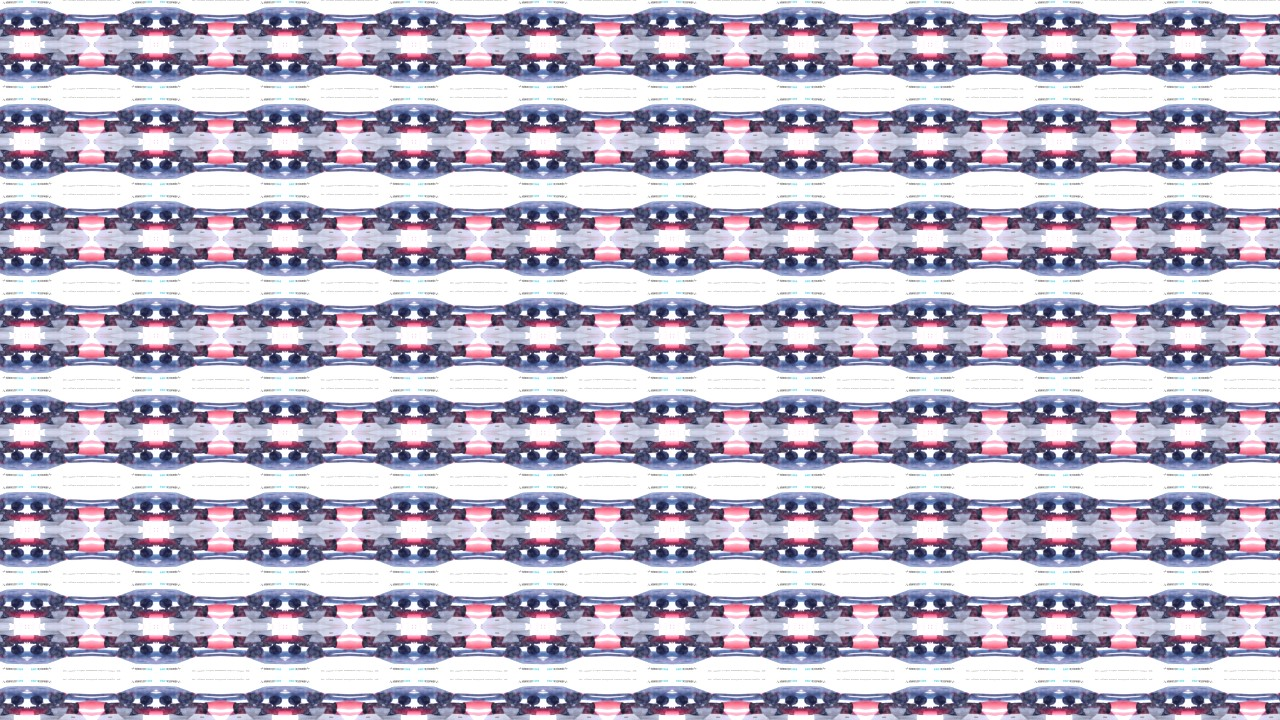chock: (46, 109, 53, 113), (126, 109, 133, 113), (305, 109, 312, 113), (385, 109, 392, 113), (564, 109, 571, 113), (644, 109, 651, 113), (823, 109, 830, 113), (903, 109, 910, 113), (1082, 109, 1089, 113), (1162, 109, 1169, 113), (46, 168, 53, 172), (126, 168, 133, 172), (305, 168, 312, 172), (385, 168, 392, 172), (564, 168, 571, 172), (644, 168, 651, 172), (823, 168, 830, 172), (903, 168, 910, 172), (1082, 168, 1089, 172), (1162, 168, 1169, 172), (46, 304, 53, 308), (126, 304, 133, 308), (305, 304, 312, 308), (385, 304, 392, 308), (564, 304, 571, 308), (644, 304, 651, 308), (823, 304, 830, 308), (903, 304, 910, 308), (1082, 304, 1089, 308), (1162, 304, 1169, 308), (46, 363, 53, 367), (126, 363, 133, 367), (305, 363, 312, 367), (385, 363, 392, 367), (564, 363, 571, 367), (644, 363, 651, 367), (823, 363, 830, 367), (903, 363, 910, 367), (1082, 363, 1089, 367), (1162, 363, 1169, 367), (46, 499, 53, 503), (126, 499, 133, 503), (305, 499, 312, 503), (385, 499, 392, 503), (564, 499, 571, 503), (644, 499, 651, 503), (823, 499, 830, 503), (903, 499, 910, 503), (1082, 499, 1089, 503), (1162, 499, 1169, 503), (46, 558, 53, 562), (126, 558, 133, 562), (305, 558, 312, 562), (385, 558, 392, 562), (564, 558, 571, 562), (644, 558, 651, 562), (823, 558, 830, 562), (903, 558, 910, 562), (1082, 558, 1089, 562), (1162, 558, 1169, 562), (46, 694, 53, 698), (126, 694, 133, 698), (305, 694, 312, 698), (385, 694, 392, 698), (564, 694, 571, 698), (644, 694, 651, 698), (823, 694, 830, 698), (903, 694, 910, 698), (1082, 694, 1089, 698), (1162, 694, 1169, 698), (176, 109, 182, 113), (256, 109, 262, 113), (435, 109, 441, 113), (515, 109, 521, 113), (694, 109, 700, 113), (774, 109, 780, 113), (953, 109, 959, 113), (1033, 109, 1039, 113), (1212, 109, 1218, 113), (176, 168, 182, 172), (256, 168, 262, 172), (435, 168, 441, 172), (515, 168, 521, 172), (694, 168, 700, 172), (774, 168, 780, 172), (953, 168, 959, 172), (1033, 168, 1039, 172), (1212, 168, 1218, 172), (176, 304, 182, 308), (256, 304, 262, 308), (435, 304, 441, 308), (515, 304, 521, 308), (694, 304, 700, 308), (774, 304, 780, 308), (953, 304, 959, 308), (1033, 304, 1039, 308), (1212, 304, 1218, 308), (176, 363, 182, 367), (256, 363, 262, 367), (435, 363, 441, 367), (515, 363, 521, 367), (694, 363, 700, 367), (774, 363, 780, 367), (953, 363, 959, 367), (1033, 363, 1039, 367), (1212, 363, 1218, 367), (176, 499, 182, 503), (256, 499, 262, 503), (435, 499, 441, 503), (515, 499, 521, 503), (694, 499, 700, 503), (774, 499, 780, 503), (953, 499, 959, 503), (1033, 499, 1039, 503), (1212, 499, 1218, 503), (176, 558, 182, 562), (256, 558, 262, 562), (435, 558, 441, 562), (515, 558, 521, 562), (694, 558, 700, 562), (774, 558, 780, 562), (953, 558, 959, 562), (1033, 558, 1039, 562), (1212, 558, 1218, 562), (176, 694, 182, 698), (256, 694, 262, 698), (435, 694, 441, 698), (515, 694, 521, 698), (694, 694, 700, 698), (774, 694, 780, 698), (953, 694, 959, 698), (1033, 694, 1039, 698), (1212, 694, 1218, 698), (46, 12, 53, 15), (126, 12, 133, 15), (305, 12, 312, 15), (385, 12, 392, 15), (564, 12, 571, 15), (644, 12, 651, 15), (823, 12, 830, 15), (903, 12, 910, 15), (1082, 12, 1089, 15), (1162, 12, 1169, 15), (46, 71, 53, 74), (126, 71, 133, 74), (305, 71, 312, 74), (385, 71, 392, 74), (564, 71, 571, 74), (644, 71, 651, 74), (823, 71, 830, 74), (903, 71, 910, 74), (1082, 71, 1089, 74), (1162, 71, 1169, 74), (46, 207, 53, 210), (126, 207, 133, 210), (305, 207, 312, 210), (385, 207, 392, 210), (564, 207, 571, 210), (644, 207, 651, 210), (823, 207, 830, 210), (903, 207, 910, 210), (1082, 207, 1089, 210), (1162, 207, 1169, 210), (46, 266, 53, 269), (126, 266, 133, 269), (305, 266, 312, 269), (385, 266, 392, 269), (564, 266, 571, 269), (644, 266, 651, 269), (823, 266, 830, 269), (903, 266, 910, 269), (1082, 266, 1089, 269), (1162, 266, 1169, 269), (46, 402, 53, 405), (126, 402, 133, 405), (305, 402, 312, 405), (385, 402, 392, 405), (564, 402, 571, 405), (644, 402, 651, 405), (823, 402, 830, 405), (903, 402, 910, 405), (1082, 402, 1089, 405), (1162, 402, 1169, 405), (46, 461, 53, 464), (126, 461, 133, 464), (305, 461, 312, 464), (385, 461, 392, 464), (564, 461, 571, 464), (644, 461, 651, 464), (823, 461, 830, 464), (903, 461, 910, 464), (1082, 461, 1089, 464), (1162, 461, 1169, 464), (46, 597, 53, 600), (126, 597, 133, 600), (305, 597, 312, 600), (385, 597, 392, 600), (564, 597, 571, 600), (644, 597, 651, 600), (823, 597, 830, 600), (903, 597, 910, 600), (1082, 597, 1089, 600), (1162, 597, 1169, 600), (46, 656, 53, 659), (126, 656, 133, 659), (305, 656, 312, 659), (385, 656, 392, 659), (564, 656, 571, 659), (644, 656, 651, 659), (823, 656, 830, 659), (903, 656, 910, 659), (1082, 656, 1089, 659), (1162, 656, 1169, 659), (60, 12, 66, 15), (113, 12, 119, 15), (176, 12, 182, 15), (256, 12, 262, 15), (319, 12, 325, 15), (372, 12, 378, 15), (435, 12, 441, 15), (515, 12, 521, 15), (578, 12, 584, 15), (631, 12, 637, 15), (694, 12, 700, 15), (774, 12, 780, 15), (837, 12, 843, 15), (890, 12, 896, 15), (953, 12, 959, 15), (1033, 12, 1039, 15), (1096, 12, 1102, 15), (1149, 12, 1155, 15), (1212, 12, 1218, 15), (60, 71, 66, 74), (113, 71, 119, 74), (176, 71, 182, 74), (256, 71, 262, 74), (319, 71, 325, 74), (372, 71, 378, 74), (435, 71, 441, 74), (515, 71, 521, 74), (578, 71, 584, 74), (631, 71, 637, 74), (694, 71, 700, 74), (774, 71, 780, 74), (837, 71, 843, 74), (890, 71, 896, 74), (953, 71, 959, 74), (1033, 71, 1039, 74), (1096, 71, 1102, 74), (1149, 71, 1155, 74), (1212, 71, 1218, 74), (60, 110, 66, 113), (113, 110, 119, 113), (319, 110, 325, 113), (372, 110, 378, 113), (578, 110, 584, 113), (631, 110, 637, 113), (837, 110, 843, 113), (890, 110, 896, 113), (1096, 110, 1102, 113), (1149, 110, 1155, 113), (60, 168, 66, 171), (113, 168, 119, 171), (319, 168, 325, 171), (372, 168, 378, 171), (578, 168, 584, 171), (631, 168, 637, 171), (837, 168, 843, 171), (890, 168, 896, 171), (1096, 168, 1102, 171), (1149, 168, 1155, 171), (60, 207, 66, 210), (113, 207, 119, 210), (176, 207, 182, 210), (256, 207, 262, 210), (319, 207, 325, 210), (372, 207, 378, 210), (435, 207, 441, 210), (515, 207, 521, 210), (578, 207, 584, 210), (631, 207, 637, 210), (694, 207, 700, 210), (774, 207, 780, 210), (837, 207, 843, 210), (890, 207, 896, 210), (953, 207, 959, 210), (1033, 207, 1039, 210), (1096, 207, 1102, 210), (1149, 207, 1155, 210), (1212, 207, 1218, 210), (60, 266, 66, 269), (113, 266, 119, 269), (176, 266, 182, 269), (256, 266, 262, 269), (319, 266, 325, 269), (372, 266, 378, 269), (435, 266, 441, 269), (515, 266, 521, 269), (578, 266, 584, 269), (631, 266, 637, 269), (694, 266, 700, 269), (774, 266, 780, 269), (837, 266, 843, 269), (890, 266, 896, 269), (953, 266, 959, 269), (1033, 266, 1039, 269), (1096, 266, 1102, 269), (1149, 266, 1155, 269), (1212, 266, 1218, 269), (60, 305, 66, 308), (113, 305, 119, 308), (319, 305, 325, 308), (372, 305, 378, 308), (578, 305, 584, 308), (631, 305, 637, 308), (837, 305, 843, 308), (890, 305, 896, 308), (1096, 305, 1102, 308), (1149, 305, 1155, 308), (60, 363, 66, 366), (113, 363, 119, 366), (319, 363, 325, 366), (372, 363, 378, 366), (578, 363, 584, 366), (631, 363, 637, 366), (837, 363, 843, 366), (890, 363, 896, 366), (1096, 363, 1102, 366), (1149, 363, 1155, 366), (60, 402, 66, 405), (113, 402, 119, 405), (176, 402, 182, 405), (256, 402, 262, 405), (319, 402, 325, 405), (372, 402, 378, 405), (435, 402, 441, 405), (515, 402, 521, 405), (578, 402, 584, 405), (631, 402, 637, 405), (694, 402, 700, 405), (774, 402, 780, 405), (837, 402, 843, 405), (890, 402, 896, 405), (953, 402, 959, 405), (1033, 402, 1039, 405), (1096, 402, 1102, 405), (1149, 402, 1155, 405), (1212, 402, 1218, 405), (60, 461, 66, 464), (113, 461, 119, 464), (176, 461, 182, 464), (256, 461, 262, 464), (319, 461, 325, 464), (372, 461, 378, 464), (435, 461, 441, 464), (515, 461, 521, 464), (578, 461, 584, 464), (631, 461, 637, 464), (694, 461, 700, 464), (774, 461, 780, 464), (837, 461, 843, 464), (890, 461, 896, 464), (953, 461, 959, 464), (1033, 461, 1039, 464), (1096, 461, 1102, 464), (1149, 461, 1155, 464), (1212, 461, 1218, 464), (60, 500, 66, 503), (113, 500, 119, 503), (319, 500, 325, 503), (372, 500, 378, 503), (578, 500, 584, 503), (631, 500, 637, 503), (837, 500, 843, 503), (890, 500, 896, 503), (1096, 500, 1102, 503), (1149, 500, 1155, 503), (60, 558, 66, 561), (113, 558, 119, 561), (319, 558, 325, 561), (372, 558, 378, 561), (578, 558, 584, 561), (631, 558, 637, 561), (837, 558, 843, 561), (890, 558, 896, 561), (1096, 558, 1102, 561), (1149, 558, 1155, 561), (60, 597, 66, 600), (113, 597, 119, 600), (176, 597, 182, 600), (256, 597, 262, 600), (319, 597, 325, 600), (372, 597, 378, 600), (435, 597, 441, 600), (515, 597, 521, 600), (578, 597, 584, 600), (631, 597, 637, 600), (694, 597, 700, 600), (774, 597, 780, 600), (837, 597, 843, 600), (890, 597, 896, 600), (953, 597, 959, 600), (1033, 597, 1039, 600), (1096, 597, 1102, 600), (1149, 597, 1155, 600), (1212, 597, 1218, 600), (60, 656, 66, 659), (113, 656, 119, 659), (176, 656, 182, 659), (256, 656, 262, 659), (319, 656, 325, 659), (372, 656, 378, 659), (435, 656, 441, 659), (515, 656, 521, 659), (578, 656, 584, 659), (631, 656, 637, 659), (694, 656, 700, 659), (774, 656, 780, 659), (837, 656, 843, 659), (890, 656, 896, 659), (953, 656, 959, 659), (1033, 656, 1039, 659), (1096, 656, 1102, 659), (1149, 656, 1155, 659), (1212, 656, 1218, 659), (60, 695, 66, 698), (113, 695, 119, 698), (319, 695, 325, 698), (372, 695, 378, 698), (578, 695, 584, 698), (631, 695, 637, 698), (837, 695, 843, 698), (890, 695, 896, 698), (1096, 695, 1102, 698), (1149, 695, 1155, 698), (190, 12, 195, 15), (243, 12, 248, 15), (449, 12, 454, 15), (502, 12, 507, 15), (708, 12, 713, 15), (761, 12, 766, 15), (967, 12, 972, 15), (1020, 12, 1025, 15), (1226, 12, 1231, 15), (190, 71, 195, 74), (243, 71, 248, 74), (449, 71, 454, 74), (502, 71, 507, 74), (708, 71, 713, 74), (761, 71, 766, 74), (967, 71, 972, 74), (1020, 71, 1025, 74), (1226, 71, 1231, 74), (190, 110, 195, 113), (243, 110, 248, 113), (449, 110, 454, 113), (502, 110, 507, 113), (708, 110, 713, 113), (761, 110, 766, 113), (967, 110, 972, 113), (1020, 110, 1025, 113), (1226, 110, 1231, 113), (190, 168, 195, 171), (243, 168, 248, 171), (449, 168, 454, 171), (502, 168, 507, 171), (708, 168, 713, 171), (761, 168, 766, 171), (967, 168, 972, 171), (1020, 168, 1025, 171), (1226, 168, 1231, 171), (190, 207, 195, 210), (243, 207, 248, 210), (449, 207, 454, 210), (502, 207, 507, 210), (708, 207, 713, 210), (761, 207, 766, 210), (967, 207, 972, 210), (1020, 207, 1025, 210), (1226, 207, 1231, 210), (190, 266, 195, 269), (243, 266, 248, 269), (449, 266, 454, 269), (502, 266, 507, 269), (708, 266, 713, 269), (761, 266, 766, 269), (967, 266, 972, 269), (1020, 266, 1025, 269), (1226, 266, 1231, 269), (190, 305, 195, 308), (243, 305, 248, 308), (449, 305, 454, 308), (502, 305, 507, 308), (708, 305, 713, 308), (761, 305, 766, 308), (967, 305, 972, 308), (1020, 305, 1025, 308), (1226, 305, 1231, 308), (190, 363, 195, 366), (243, 363, 248, 366), (449, 363, 454, 366), (502, 363, 507, 366), (708, 363, 713, 366), (761, 363, 766, 366), (967, 363, 972, 366), (1020, 363, 1025, 366), (1226, 363, 1231, 366), (190, 402, 195, 405), (243, 402, 248, 405), (449, 402, 454, 405), (502, 402, 507, 405), (708, 402, 713, 405), (761, 402, 766, 405), (967, 402, 972, 405), (1020, 402, 1025, 405), (1226, 402, 1231, 405), (190, 461, 195, 464), (243, 461, 248, 464), (449, 461, 454, 464), (502, 461, 507, 464), (708, 461, 713, 464), (761, 461, 766, 464), (967, 461, 972, 464), (1020, 461, 1025, 464), (1226, 461, 1231, 464), (190, 500, 195, 503), (243, 500, 248, 503), (449, 500, 454, 503), (502, 500, 507, 503), (708, 500, 713, 503), (761, 500, 766, 503), (967, 500, 972, 503), (1020, 500, 1025, 503), (1226, 500, 1231, 503), (190, 558, 195, 561), (243, 558, 248, 561), (449, 558, 454, 561), (502, 558, 507, 561), (708, 558, 713, 561), (761, 558, 766, 561), (967, 558, 972, 561), (1020, 558, 1025, 561), (1226, 558, 1231, 561), (190, 597, 195, 600), (243, 597, 248, 600), (449, 597, 454, 600), (502, 597, 507, 600), (708, 597, 713, 600), (761, 597, 766, 600), (967, 597, 972, 600), (1020, 597, 1025, 600), (1226, 597, 1231, 600), (190, 656, 195, 659), (243, 656, 248, 659), (449, 656, 454, 659), (502, 656, 507, 659), (708, 656, 713, 659), (761, 656, 766, 659), (967, 656, 972, 659), (1020, 656, 1025, 659), (1226, 656, 1231, 659), (190, 695, 195, 698), (243, 695, 248, 698), (449, 695, 454, 698), (502, 695, 507, 698), (708, 695, 713, 698), (761, 695, 766, 698), (967, 695, 972, 698), (1020, 695, 1025, 698), (1226, 695, 1231, 698), (0, 109, 3, 113), (0, 168, 3, 172), (0, 304, 3, 308), (0, 363, 3, 367), (0, 499, 3, 503), (0, 558, 3, 562), (0, 694, 3, 698), (0, 12, 3, 15), (0, 71, 3, 74), (0, 207, 3, 210), (0, 266, 3, 269), (0, 402, 3, 405), (0, 461, 3, 464), (0, 597, 3, 600), (0, 656, 3, 659), (1279, 12, 1280, 15), (1279, 71, 1280, 74), (1279, 110, 1280, 113), (1279, 168, 1280, 171), (1279, 207, 1280, 210), (1279, 266, 1280, 269), (1279, 305, 1280, 308), (1279, 363, 1280, 366), (1279, 402, 1280, 405), (1279, 461, 1280, 464), (1279, 500, 1280, 503), (1279, 558, 1280, 561), (1279, 597, 1280, 600), (1279, 656, 1280, 659), (1279, 695, 1280, 698)
wheel: (178, 109, 193, 121), (245, 109, 260, 121), (437, 109, 452, 121), (504, 109, 519, 121), (696, 109, 711, 121), (763, 109, 778, 121), (955, 109, 970, 121), (1022, 109, 1037, 121), (1214, 109, 1229, 121), (178, 160, 193, 172), (245, 160, 260, 172), (437, 160, 452, 172), (504, 160, 519, 172), (696, 160, 711, 172), (763, 160, 778, 172), (955, 160, 970, 172), (1022, 160, 1037, 172), (1214, 160, 1229, 172), (178, 304, 193, 316), (245, 304, 260, 316), (437, 304, 452, 316), (504, 304, 519, 316), (696, 304, 711, 316), (763, 304, 778, 316), (955, 304, 970, 316), (1022, 304, 1037, 316), (1214, 304, 1229, 316), (178, 355, 193, 367), (245, 355, 260, 367), (437, 355, 452, 367), (504, 355, 519, 367), (696, 355, 711, 367), (763, 355, 778, 367), (955, 355, 970, 367), (1022, 355, 1037, 367), (1214, 355, 1229, 367), (178, 499, 193, 511), (245, 499, 260, 511), (437, 499, 452, 511), (504, 499, 519, 511), (696, 499, 711, 511), (763, 499, 778, 511), (955, 499, 970, 511), (1022, 499, 1037, 511), (1214, 499, 1229, 511), (178, 550, 193, 562), (245, 550, 260, 562), (437, 550, 452, 562), (504, 550, 519, 562), (696, 550, 711, 562), (763, 550, 778, 562), (955, 550, 970, 562), (1022, 550, 1037, 562), (1214, 550, 1229, 562), (178, 694, 193, 706), (245, 694, 260, 706), (437, 694, 452, 706), (504, 694, 519, 706), (696, 694, 711, 706), (763, 694, 778, 706), (955, 694, 970, 706), (1022, 694, 1037, 706), (1214, 694, 1229, 706), (49, 109, 63, 121), (116, 109, 130, 121), (308, 109, 322, 121), (375, 109, 389, 121), (567, 109, 581, 121), (634, 109, 648, 121), (826, 109, 840, 121), (893, 109, 907, 121), (1085, 109, 1099, 121), (1152, 109, 1166, 121), (49, 160, 63, 172), (116, 160, 130, 172), (308, 160, 322, 172), (375, 160, 389, 172), (567, 160, 581, 172), (634, 160, 648, 172), (826, 160, 840, 172), (893, 160, 907, 172), (1085, 160, 1099, 172), (1152, 160, 1166, 172), (49, 304, 63, 316), (116, 304, 130, 316), (308, 304, 322, 316), (375, 304, 389, 316), (567, 304, 581, 316), (634, 304, 648, 316), (826, 304, 840, 316), (893, 304, 907, 316), (1085, 304, 1099, 316), (1152, 304, 1166, 316), (49, 355, 63, 367), (116, 355, 130, 367), (308, 355, 322, 367), (375, 355, 389, 367), (567, 355, 581, 367), (634, 355, 648, 367), (826, 355, 840, 367), (893, 355, 907, 367), (1085, 355, 1099, 367), (1152, 355, 1166, 367), (49, 499, 63, 511), (116, 499, 130, 511), (308, 499, 322, 511), (375, 499, 389, 511), (567, 499, 581, 511), (634, 499, 648, 511), (826, 499, 840, 511), (893, 499, 907, 511), (1085, 499, 1099, 511), (1152, 499, 1166, 511), (49, 550, 63, 562), (116, 550, 130, 562), (308, 550, 322, 562), (375, 550, 389, 562), (567, 550, 581, 562), (634, 550, 648, 562), (826, 550, 840, 562), (893, 550, 907, 562), (1085, 550, 1099, 562), (1152, 550, 1166, 562), (49, 694, 63, 706), (116, 694, 130, 706), (308, 694, 322, 706), (375, 694, 389, 706), (567, 694, 581, 706), (634, 694, 648, 706), (826, 694, 840, 706), (893, 694, 907, 706), (1085, 694, 1099, 706), (1152, 694, 1166, 706), (178, 12, 193, 23), (245, 12, 260, 23), (437, 12, 452, 23), (504, 12, 519, 23), (696, 12, 711, 23), (763, 12, 778, 23), (955, 12, 970, 23), (1022, 12, 1037, 23), (1214, 12, 1229, 23), (178, 63, 193, 74), (245, 63, 260, 74), (437, 63, 452, 74), (504, 63, 519, 74), (696, 63, 711, 74), (763, 63, 778, 74), (955, 63, 970, 74), (1022, 63, 1037, 74), (1214, 63, 1229, 74), (178, 207, 193, 218), (245, 207, 260, 218), (437, 207, 452, 218), (504, 207, 519, 218), (696, 207, 711, 218), (763, 207, 778, 218), (955, 207, 970, 218), (1022, 207, 1037, 218), (1214, 207, 1229, 218), (178, 258, 193, 269), (245, 258, 260, 269), (437, 258, 452, 269), (504, 258, 519, 269), (696, 258, 711, 269), (763, 258, 778, 269), (955, 258, 970, 269), (1022, 258, 1037, 269), (1214, 258, 1229, 269), (178, 402, 193, 413), (245, 402, 260, 413), (437, 402, 452, 413), (504, 402, 519, 413), (696, 402, 711, 413), (763, 402, 778, 413), (955, 402, 970, 413), (1022, 402, 1037, 413), (1214, 402, 1229, 413), (178, 453, 193, 464), (245, 453, 260, 464), (437, 453, 452, 464), (504, 453, 519, 464), (696, 453, 711, 464), (763, 453, 778, 464), (955, 453, 970, 464), (1022, 453, 1037, 464), (1214, 453, 1229, 464), (178, 597, 193, 608), (245, 597, 260, 608), (437, 597, 452, 608), (504, 597, 519, 608), (696, 597, 711, 608), (763, 597, 778, 608), (955, 597, 970, 608), (1022, 597, 1037, 608), (1214, 597, 1229, 608), (178, 648, 193, 659), (245, 648, 260, 659), (437, 648, 452, 659), (504, 648, 519, 659), (696, 648, 711, 659), (763, 648, 778, 659), (955, 648, 970, 659), (1022, 648, 1037, 659), (1214, 648, 1229, 659), (49, 12, 63, 23), (116, 12, 130, 23), (308, 12, 322, 23), (375, 12, 389, 23), (567, 12, 581, 23), (634, 12, 648, 23), (826, 12, 840, 23), (893, 12, 907, 23), (1085, 12, 1099, 23), (1152, 12, 1166, 23), (49, 63, 63, 74), (116, 63, 130, 74), (308, 63, 322, 74), (375, 63, 389, 74), (567, 63, 581, 74), (634, 63, 648, 74), (826, 63, 840, 74), (893, 63, 907, 74), (1085, 63, 1099, 74), (1152, 63, 1166, 74), (49, 207, 63, 218), (116, 207, 130, 218), (308, 207, 322, 218), (375, 207, 389, 218), (567, 207, 581, 218), (634, 207, 648, 218), (826, 207, 840, 218), (893, 207, 907, 218), (1085, 207, 1099, 218), (1152, 207, 1166, 218), (49, 258, 63, 269), (116, 258, 130, 269), (308, 258, 322, 269), (375, 258, 389, 269), (567, 258, 581, 269), (634, 258, 648, 269), (826, 258, 840, 269), (893, 258, 907, 269), (1085, 258, 1099, 269), (1152, 258, 1166, 269), (49, 402, 63, 413), (116, 402, 130, 413), (308, 402, 322, 413), (375, 402, 389, 413), (567, 402, 581, 413), (634, 402, 648, 413), (826, 402, 840, 413), (893, 402, 907, 413), (1085, 402, 1099, 413), (1152, 402, 1166, 413), (49, 453, 63, 464), (116, 453, 130, 464), (308, 453, 322, 464), (375, 453, 389, 464), (567, 453, 581, 464), (634, 453, 648, 464), (826, 453, 840, 464), (893, 453, 907, 464), (1085, 453, 1099, 464), (1152, 453, 1166, 464), (49, 597, 63, 608), (116, 597, 130, 608), (308, 597, 322, 608), (375, 597, 389, 608), (567, 597, 581, 608), (634, 597, 648, 608), (826, 597, 840, 608), (893, 597, 907, 608), (1085, 597, 1099, 608), (1152, 597, 1166, 608), (49, 648, 63, 659), (116, 648, 130, 659), (308, 648, 322, 659), (375, 648, 389, 659), (567, 648, 581, 659), (634, 648, 648, 659), (826, 648, 840, 659), (893, 648, 907, 659), (1085, 648, 1099, 659), (1152, 648, 1166, 659), (8, 15, 22, 25), (28, 15, 42, 25), (137, 15, 151, 25), (157, 15, 171, 25), (267, 15, 281, 25), (287, 15, 301, 25), (396, 15, 410, 25), (416, 15, 430, 25), (526, 15, 540, 25), (546, 15, 560, 25), (655, 15, 669, 25), (675, 15, 689, 25), (785, 15, 799, 25), (805, 15, 819, 25), (914, 15, 928, 25), (934, 15, 948, 25), (1044, 15, 1058, 25), (1064, 15, 1078, 25), (1173, 15, 1187, 25), (1193, 15, 1207, 25), (8, 61, 22, 71), (28, 61, 42, 71), (137, 61, 151, 71), (157, 61, 171, 71), (267, 61, 281, 71), (287, 61, 301, 71), (396, 61, 410, 71), (416, 61, 430, 71), (526, 61, 540, 71), (546, 61, 560, 71), (655, 61, 669, 71), (675, 61, 689, 71), (785, 61, 799, 71), (805, 61, 819, 71), (914, 61, 928, 71), (934, 61, 948, 71), (1044, 61, 1058, 71), (1064, 61, 1078, 71), (1173, 61, 1187, 71), (1193, 61, 1207, 71), (8, 112, 22, 122), (28, 112, 42, 122), (137, 112, 151, 122), (157, 112, 171, 122), (267, 112, 281, 122), (287, 112, 301, 122), (396, 112, 410, 122), (416, 112, 430, 122), (526, 112, 540, 122), (546, 112, 560, 122), (655, 112, 669, 122), (675, 112, 689, 122), (785, 112, 799, 122), (805, 112, 819, 122), (914, 112, 928, 122), (934, 112, 948, 122), (1044, 112, 1058, 122), (1064, 112, 1078, 122), (1173, 112, 1187, 122), (1193, 112, 1207, 122), (8, 159, 22, 169), (28, 159, 42, 169), (137, 159, 151, 169), (157, 159, 171, 169), (267, 159, 281, 169), (287, 159, 301, 169), (396, 159, 410, 169), (416, 159, 430, 169), (526, 159, 540, 169), (546, 159, 560, 169), (655, 159, 669, 169), (675, 159, 689, 169), (785, 159, 799, 169), (805, 159, 819, 169), (914, 159, 928, 169), (934, 159, 948, 169), (1044, 159, 1058, 169), (1064, 159, 1078, 169), (1173, 159, 1187, 169), (1193, 159, 1207, 169), (8, 210, 22, 220), (28, 210, 42, 220), (137, 210, 151, 220), (157, 210, 171, 220), (267, 210, 281, 220), (287, 210, 301, 220), (396, 210, 410, 220), (416, 210, 430, 220), (526, 210, 540, 220), (546, 210, 560, 220), (655, 210, 669, 220), (675, 210, 689, 220), (785, 210, 799, 220), (805, 210, 819, 220), (914, 210, 928, 220), (934, 210, 948, 220), (1044, 210, 1058, 220), (1064, 210, 1078, 220), (1173, 210, 1187, 220), (1193, 210, 1207, 220), (8, 256, 22, 266), (28, 256, 42, 266), (137, 256, 151, 266), (157, 256, 171, 266), (267, 256, 281, 266), (287, 256, 301, 266), (396, 256, 410, 266), (416, 256, 430, 266), (526, 256, 540, 266), (546, 256, 560, 266), (655, 256, 669, 266), (675, 256, 689, 266), (785, 256, 799, 266), (805, 256, 819, 266), (914, 256, 928, 266), (934, 256, 948, 266), (1044, 256, 1058, 266), (1064, 256, 1078, 266), (1173, 256, 1187, 266), (1193, 256, 1207, 266), (8, 307, 22, 317), (28, 307, 42, 317), (137, 307, 151, 317), (157, 307, 171, 317), (267, 307, 281, 317), (287, 307, 301, 317), (396, 307, 410, 317), (416, 307, 430, 317), (526, 307, 540, 317), (546, 307, 560, 317), (655, 307, 669, 317), (675, 307, 689, 317), (785, 307, 799, 317), (805, 307, 819, 317), (914, 307, 928, 317), (934, 307, 948, 317), (1044, 307, 1058, 317), (1064, 307, 1078, 317), (1173, 307, 1187, 317), (1193, 307, 1207, 317), (8, 354, 22, 364), (28, 354, 42, 364), (137, 354, 151, 364), (157, 354, 171, 364), (267, 354, 281, 364), (287, 354, 301, 364), (396, 354, 410, 364), (416, 354, 430, 364), (526, 354, 540, 364), (546, 354, 560, 364), (655, 354, 669, 364), (675, 354, 689, 364), (785, 354, 799, 364), (805, 354, 819, 364), (914, 354, 928, 364), (934, 354, 948, 364), (1044, 354, 1058, 364), (1064, 354, 1078, 364), (1173, 354, 1187, 364), (1193, 354, 1207, 364), (8, 405, 22, 415), (28, 405, 42, 415), (137, 405, 151, 415), (157, 405, 171, 415), (267, 405, 281, 415), (287, 405, 301, 415), (396, 405, 410, 415), (416, 405, 430, 415), (526, 405, 540, 415), (546, 405, 560, 415), (655, 405, 669, 415), (675, 405, 689, 415), (785, 405, 799, 415), (805, 405, 819, 415), (914, 405, 928, 415), (934, 405, 948, 415), (1044, 405, 1058, 415), (1064, 405, 1078, 415), (1173, 405, 1187, 415), (1193, 405, 1207, 415), (8, 451, 22, 461), (28, 451, 42, 461), (137, 451, 151, 461), (157, 451, 171, 461), (267, 451, 281, 461), (287, 451, 301, 461), (396, 451, 410, 461), (416, 451, 430, 461), (526, 451, 540, 461), (546, 451, 560, 461), (655, 451, 669, 461), (675, 451, 689, 461), (785, 451, 799, 461), (805, 451, 819, 461), (914, 451, 928, 461), (934, 451, 948, 461), (1044, 451, 1058, 461), (1064, 451, 1078, 461), (1173, 451, 1187, 461), (1193, 451, 1207, 461), (8, 502, 22, 512), (28, 502, 42, 512), (137, 502, 151, 512), (157, 502, 171, 512), (267, 502, 281, 512), (287, 502, 301, 512), (396, 502, 410, 512), (416, 502, 430, 512), (526, 502, 540, 512), (546, 502, 560, 512), (655, 502, 669, 512), (675, 502, 689, 512), (785, 502, 799, 512), (805, 502, 819, 512), (914, 502, 928, 512), (934, 502, 948, 512), (1044, 502, 1058, 512), (1064, 502, 1078, 512), (1173, 502, 1187, 512), (1193, 502, 1207, 512), (8, 549, 22, 559), (28, 549, 42, 559), (137, 549, 151, 559), (157, 549, 171, 559), (267, 549, 281, 559), (287, 549, 301, 559), (396, 549, 410, 559), (416, 549, 430, 559), (526, 549, 540, 559), (546, 549, 560, 559), (655, 549, 669, 559), (675, 549, 689, 559), (785, 549, 799, 559), (805, 549, 819, 559), (914, 549, 928, 559), (934, 549, 948, 559), (1044, 549, 1058, 559), (1064, 549, 1078, 559), (1173, 549, 1187, 559), (1193, 549, 1207, 559), (8, 600, 22, 610), (28, 600, 42, 610), (137, 600, 151, 610), (157, 600, 171, 610), (267, 600, 281, 610), (287, 600, 301, 610), (396, 600, 410, 610), (416, 600, 430, 610), (526, 600, 540, 610), (546, 600, 560, 610), (655, 600, 669, 610), (675, 600, 689, 610), (785, 600, 799, 610), (805, 600, 819, 610), (914, 600, 928, 610), (934, 600, 948, 610), (1044, 600, 1058, 610), (1064, 600, 1078, 610), (1173, 600, 1187, 610), (1193, 600, 1207, 610), (8, 646, 22, 656), (28, 646, 42, 656), (137, 646, 151, 656), (157, 646, 171, 656), (267, 646, 281, 656), (287, 646, 301, 656), (396, 646, 410, 656), (416, 646, 430, 656), (526, 646, 540, 656), (546, 646, 560, 656), (655, 646, 669, 656), (675, 646, 689, 656), (785, 646, 799, 656), (805, 646, 819, 656), (914, 646, 928, 656), (934, 646, 948, 656), (1044, 646, 1058, 656), (1064, 646, 1078, 656), (1173, 646, 1187, 656), (1193, 646, 1207, 656), (8, 697, 22, 707), (28, 697, 42, 707), (137, 697, 151, 707), (157, 697, 171, 707), (267, 697, 281, 707), (287, 697, 301, 707), (396, 697, 410, 707), (416, 697, 430, 707), (526, 697, 540, 707), (546, 697, 560, 707), (655, 697, 669, 707), (675, 697, 689, 707), (785, 697, 799, 707), (805, 697, 819, 707), (914, 697, 928, 707), (934, 697, 948, 707), (1044, 697, 1058, 707), (1064, 697, 1078, 707), (1173, 697, 1187, 707), (1193, 697, 1207, 707)
